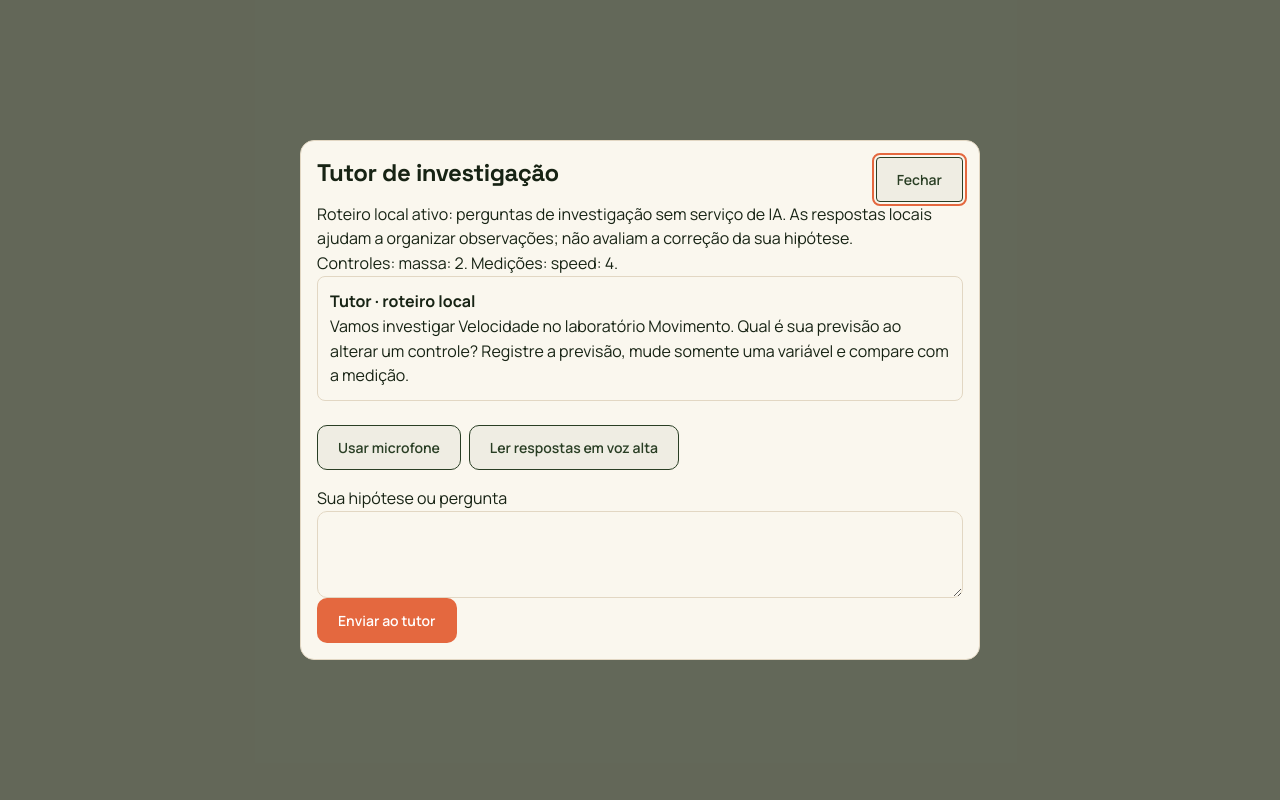
Test: tutor sem chave identifica roteiro local e usa somente leituras observadas
The width and height of the screenshot is (1280, 800).
Type "A velocidade aumenta" into the text box labelled "Sua hipótese ou pergunta". click: coordinates (640, 554)
box: [317, 510, 963, 598]
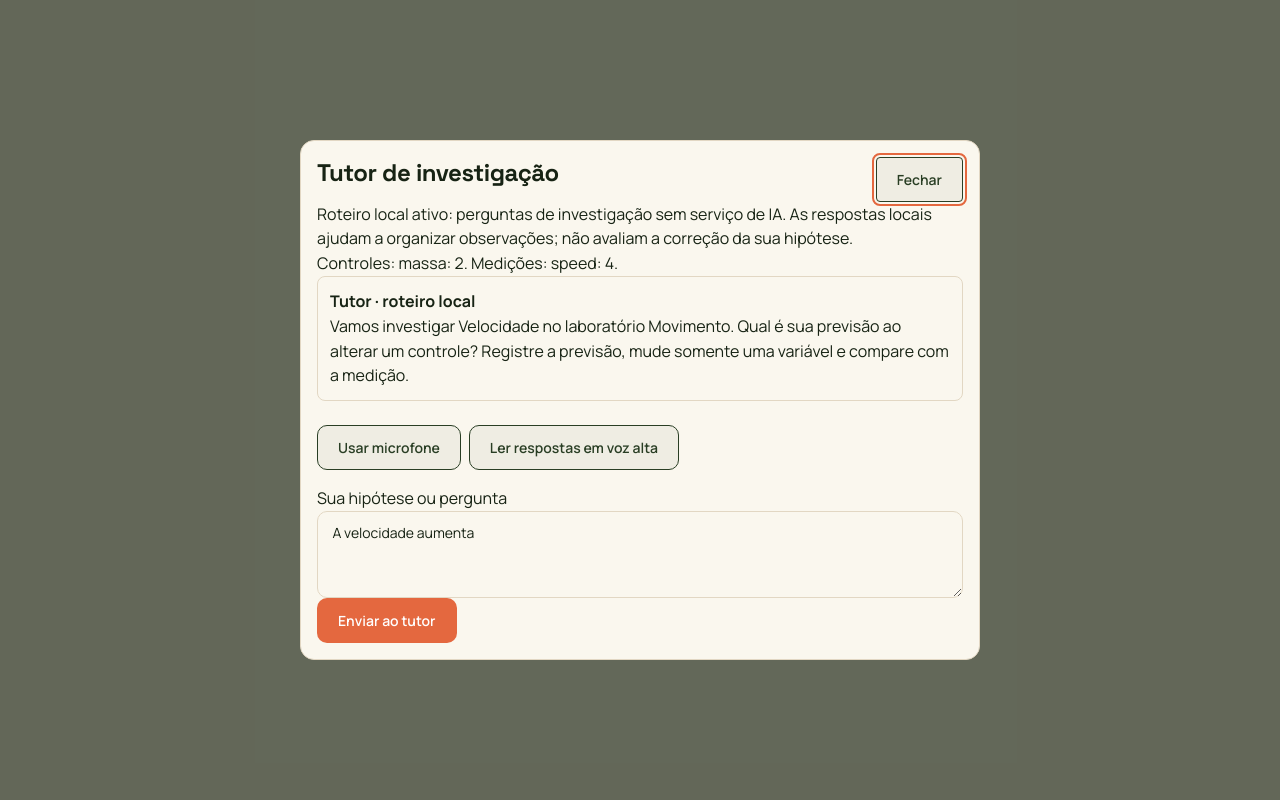
Click the button "Enviar ao tutor". click: coordinates (387, 621)
box: [317, 598, 456, 643]
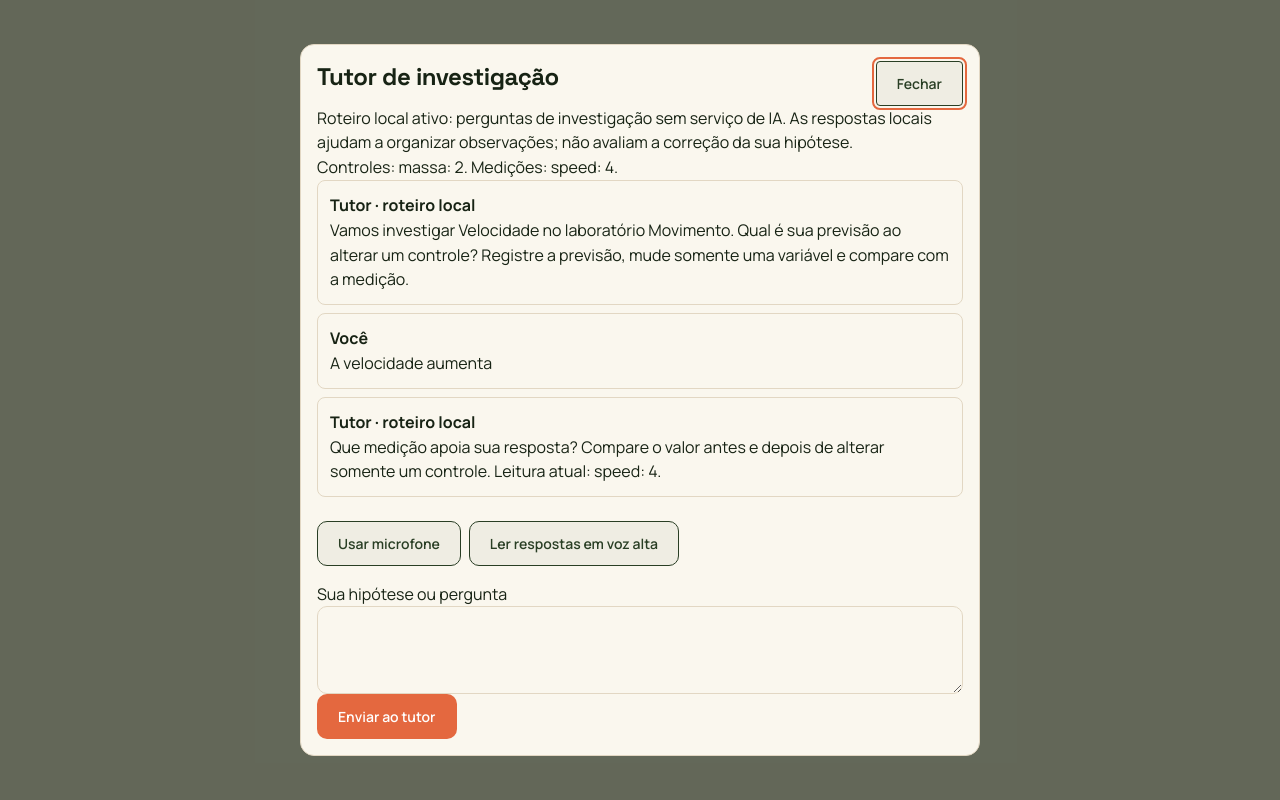
Expected: the text "Roteiro local ativo" is shown, [317, 107, 932, 154]
Expected: the text "Que medição apoia sua resposta" is shown, [330, 436, 888, 482]
